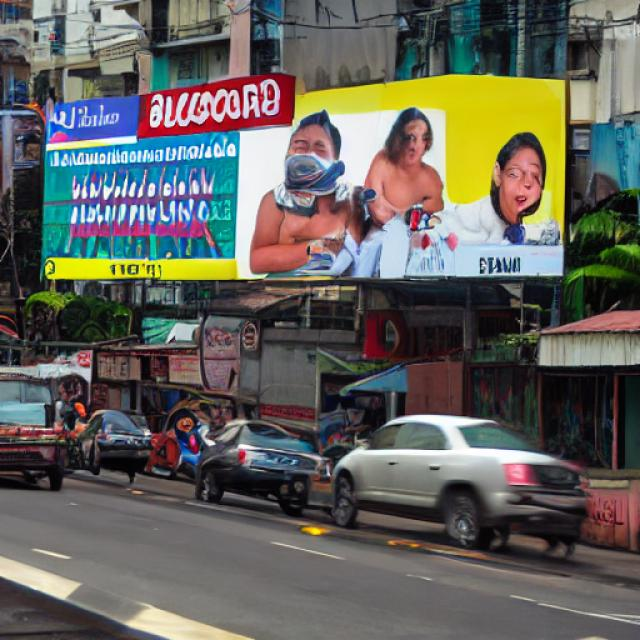Billboard: (42, 78, 566, 282)
